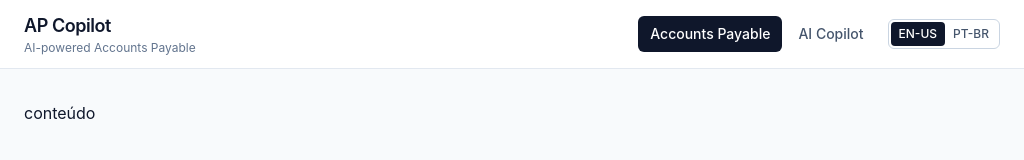
it: Layout › alterna o idioma da interface entre EN-US e PT-BR
The width and height of the screenshot is (1024, 160).
Click the button "PT-BR" at (971, 34), box left=945, top=22, right=997, bottom=46
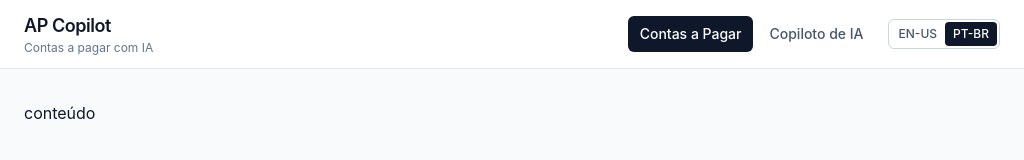
Check: the link "Contas a Pagar" is shown, box left=628, top=16, right=754, bottom=52
Check: the link "Copiloto de IA" is shown, box left=770, top=25, right=864, bottom=42
Click the button "EN-US" at (918, 34), box left=890, top=22, right=945, bottom=46
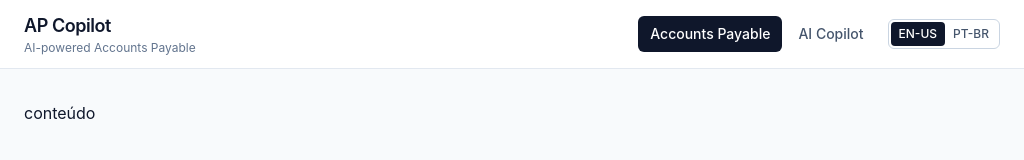
Check: the link "Accounts Payable" is shown, box left=638, top=16, right=782, bottom=52
